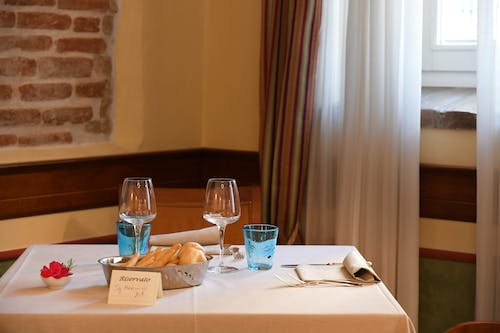knife: (280, 261, 343, 268)
